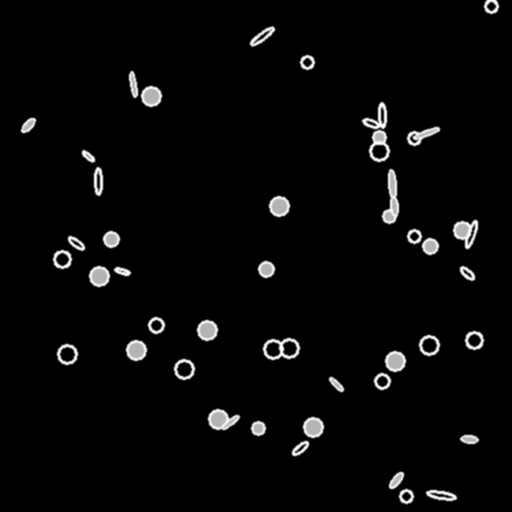pseudomonas: (249, 25, 275, 47), (463, 220, 479, 248), (412, 126, 440, 140), (387, 169, 397, 199), (426, 490, 456, 500), (291, 440, 309, 456), (221, 414, 239, 430), (20, 116, 36, 134), (388, 471, 404, 489), (67, 235, 85, 251), (328, 376, 344, 392), (459, 265, 475, 281), (362, 117, 380, 129), (378, 102, 386, 128), (94, 168, 102, 194), (81, 149, 95, 163), (129, 72, 137, 96), (390, 197, 398, 215), (114, 267, 130, 275), (461, 435, 477, 443)
synechocystis: (270, 197, 288, 215), (198, 321, 216, 339), (127, 341, 145, 359), (264, 340, 282, 358), (386, 352, 404, 370), (420, 336, 438, 354), (209, 410, 227, 428), (280, 339, 298, 357), (142, 87, 160, 105), (370, 142, 388, 160), (58, 345, 76, 363), (90, 267, 108, 285), (175, 360, 193, 378), (304, 418, 322, 436), (466, 332, 482, 348), (454, 222, 470, 238), (54, 251, 70, 267), (149, 318, 163, 332), (375, 374, 389, 388), (259, 262, 273, 276), (423, 239, 437, 253), (104, 232, 118, 246), (373, 131, 385, 143), (408, 132, 420, 144), (408, 230, 420, 242), (301, 56, 313, 68), (252, 422, 264, 434), (383, 210, 395, 222), (485, 0, 497, 12), (400, 490, 412, 502)
